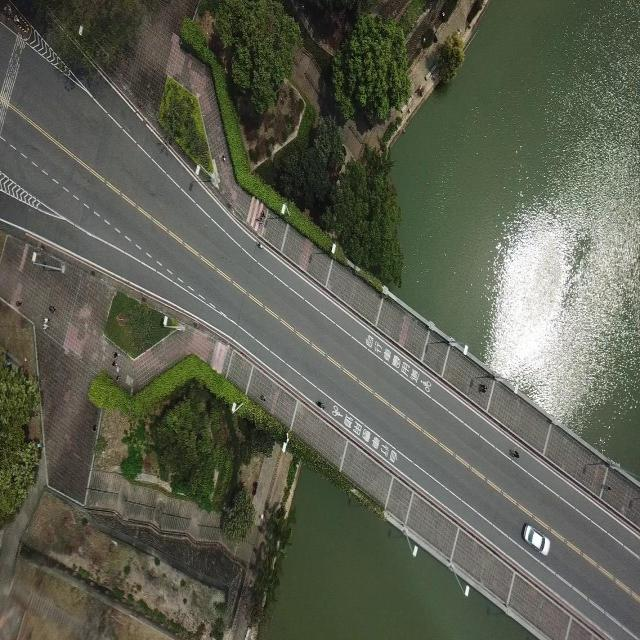car: (521, 522, 550, 557)
